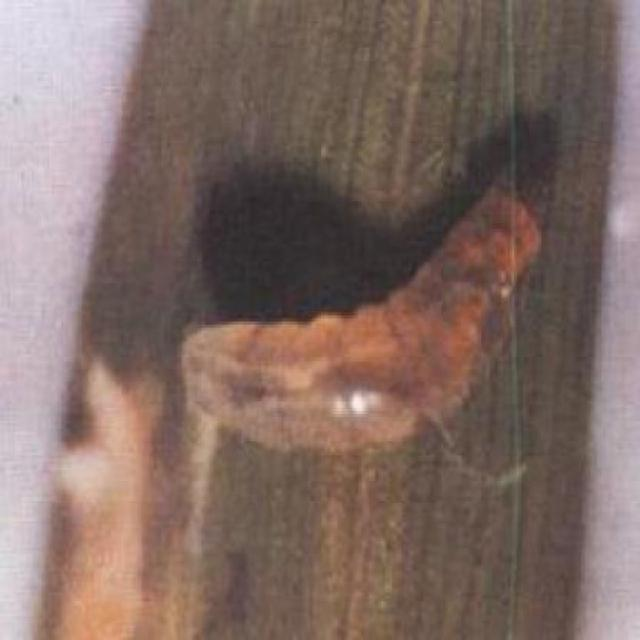whorl-maggot: (182, 179, 549, 455)
